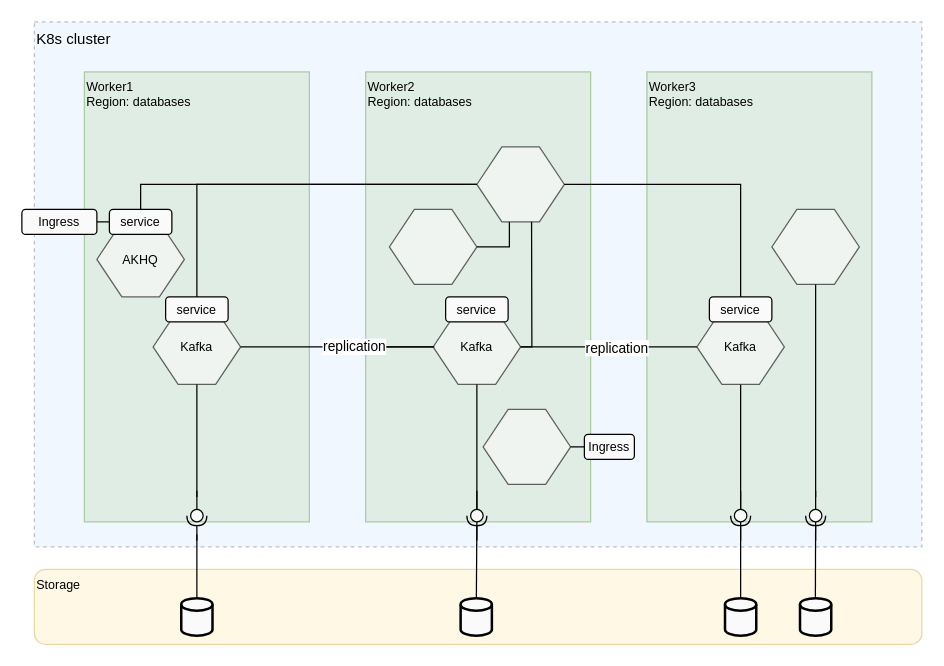
The diagram is 944 pixels wide and 666 high, and some of its shapes have lost their labels. Each missing label, with the centre of its shape:
Backup Daemon: (x=815, y=246)
Cruise Control: (x=526, y=446)
Kafka Operator: (x=520, y=184)
Monitoring agent: (x=432, y=246)
